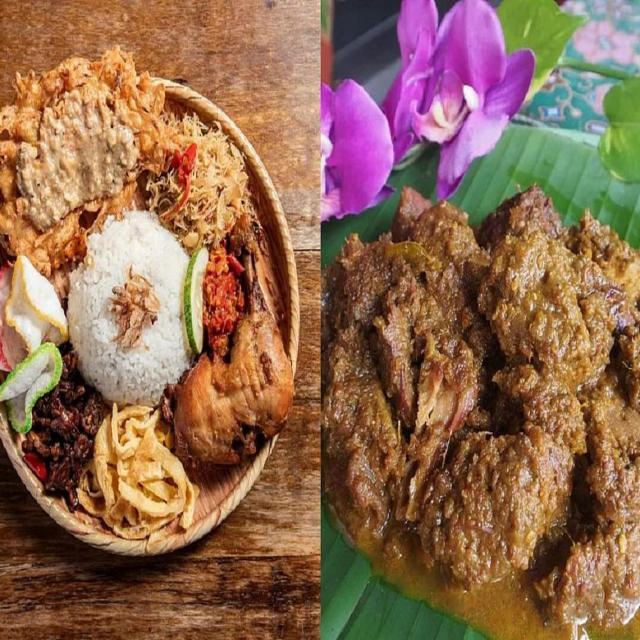Rendang: (323, 193, 640, 640)
